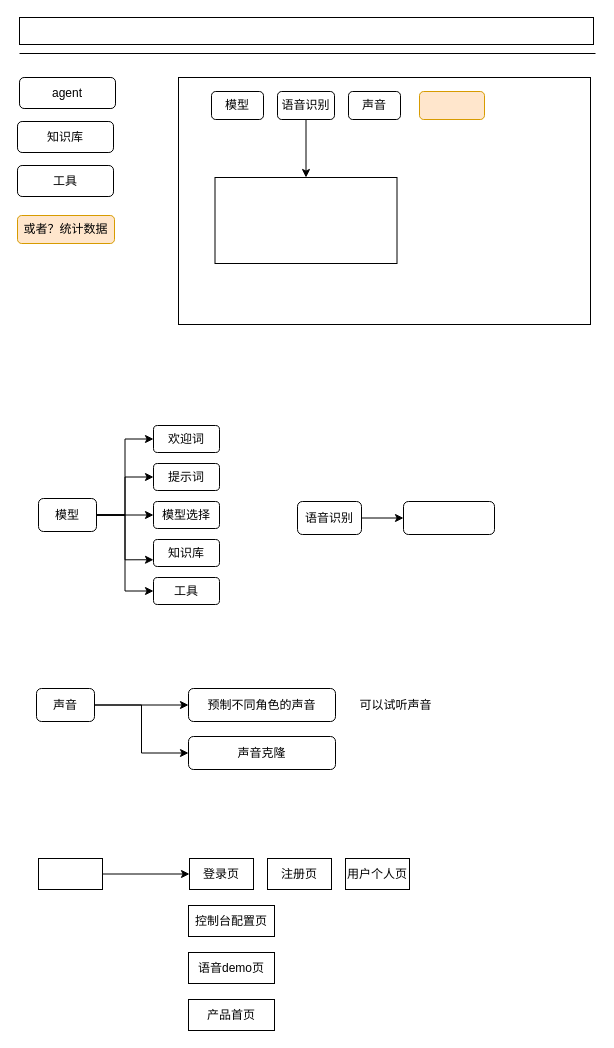
Image size: 614x1048. Some labels were removed from this diagram. The shapes that lost their labels are listed below. From the top down, each one's centre as x and y in pixels, then its label:
[306,30]: 导航栏
[451,105]: 统计数据
[305,220]: 实时的语音对话demo
[448,517]: 语音识别模型
[70,874]: 页面
